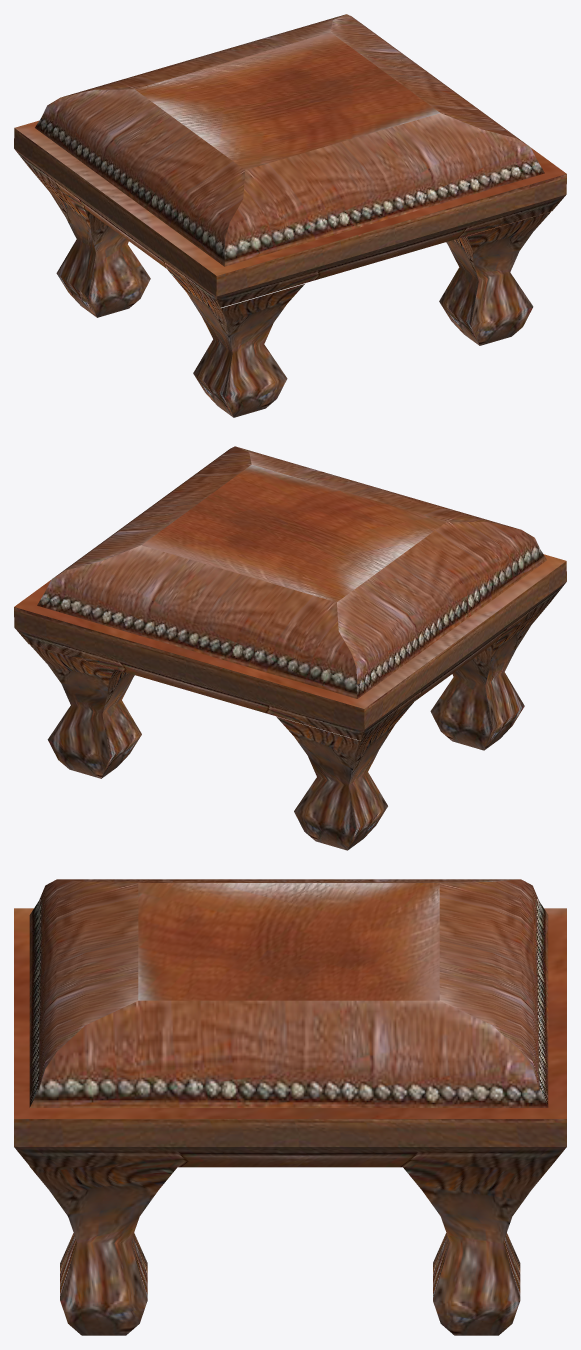
Rendered from furniture.obj.
The picture shows the model from 3 angles, top to bottom: view 1: azimuth 30°, elevation 25°; view 2: azimuth 150°, elevation 25°; view 3: azimuth 270°, elevation 25°; orthographic projection. The views are drawn at different scales.
Parts seen in each view (by area): view 1: side2, noga1, top, Box01, naz1, naz2; view 2: side2, noga1, top, Box01, naz1, naz2; view 3: noga1, top, side2, Box01, naz1.
Boxes of the visible parts, left/top/right/bottom form: side2: left=63, top=14, right=566, bottom=417; noga1: left=14, top=14, right=528, bottom=417; top: left=135, top=32, right=440, bottom=169; Box01: left=14, top=120, right=566, bottom=275; naz1: left=84, top=209, right=150, bottom=317; naz2: left=439, top=236, right=479, bottom=345; side2: left=14, top=446, right=517, bottom=850; noga1: left=52, top=446, right=566, bottom=849; top: left=142, top=464, right=446, bottom=602; Box01: left=14, top=554, right=565, bottom=708; naz1: left=430, top=641, right=496, bottom=750; naz2: left=101, top=669, right=141, bottom=778; noga1: left=14, top=879, right=566, bottom=1335; top: left=138, top=883, right=439, bottom=1000; side2: left=29, top=879, right=548, bottom=1300; Box01: left=14, top=908, right=566, bottom=1118; naz1: left=130, top=1233, right=449, bottom=1299.
Size of the model in its own units: 242 by 154 by 242.
Materials: 9 (9 with a texture image).
